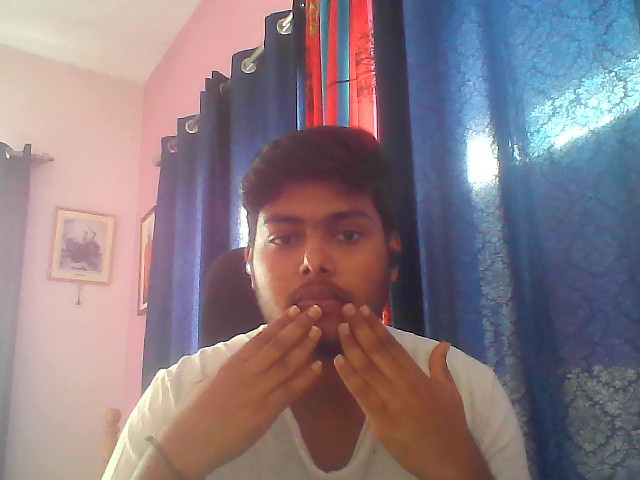Thank You: (179, 301, 491, 464)
